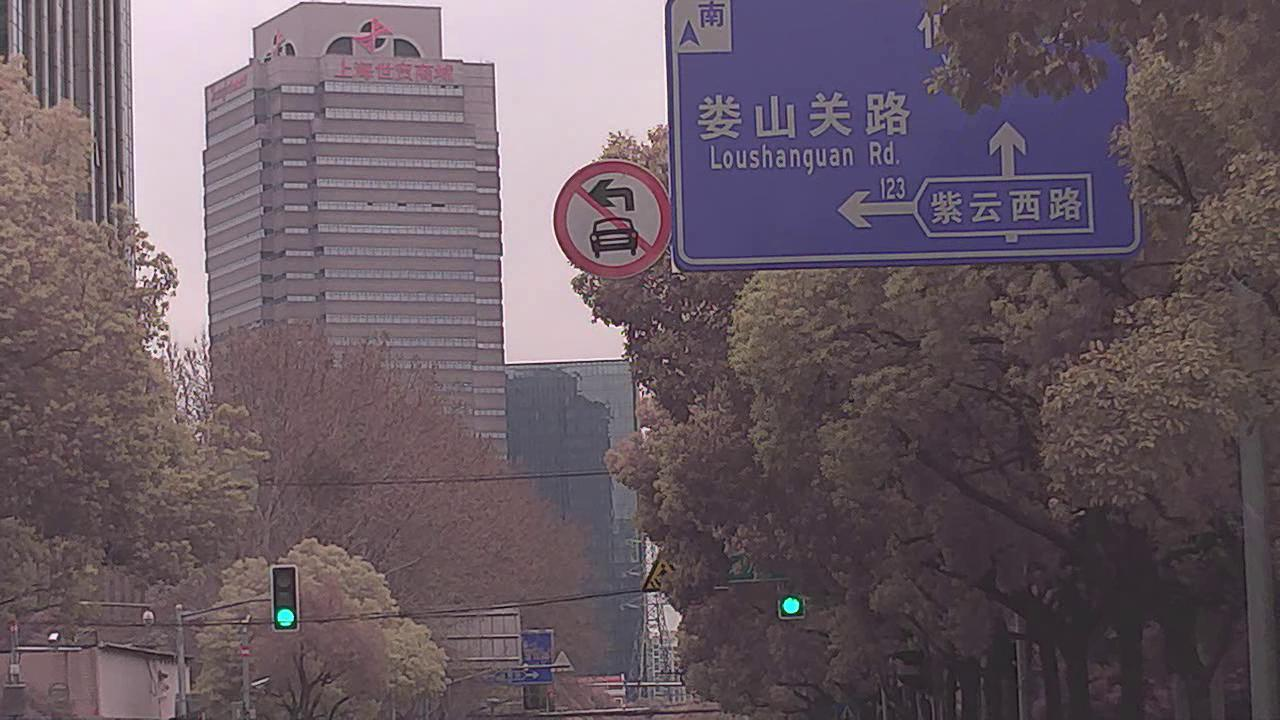traffic_light: (271, 568, 299, 630)
